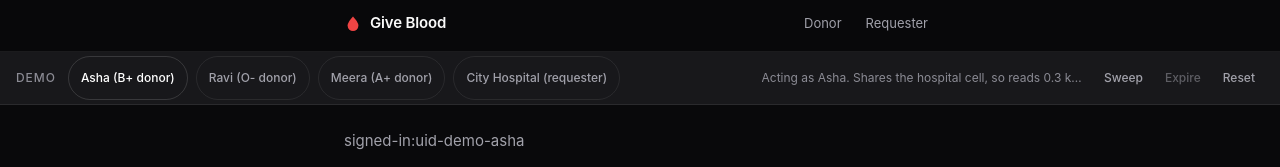
Test case: demo persona bar › switches the uid every page reads, exactly as a real sign-in would
Expected: the text "signed-in:uid-demo-asha" is shown, [344, 131, 524, 150]
Click the button "City Hospital (requester)" at (537, 78), box [453, 56, 620, 100]
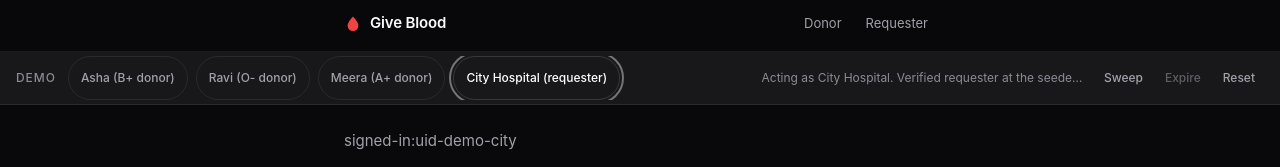
Now the text "signed-in:uid-demo-city" is shown, box [344, 131, 517, 150]
